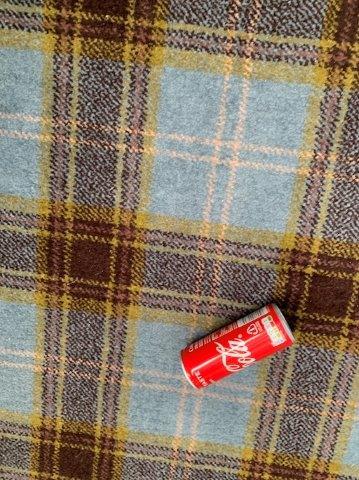kaleng: (183, 305, 294, 387)
